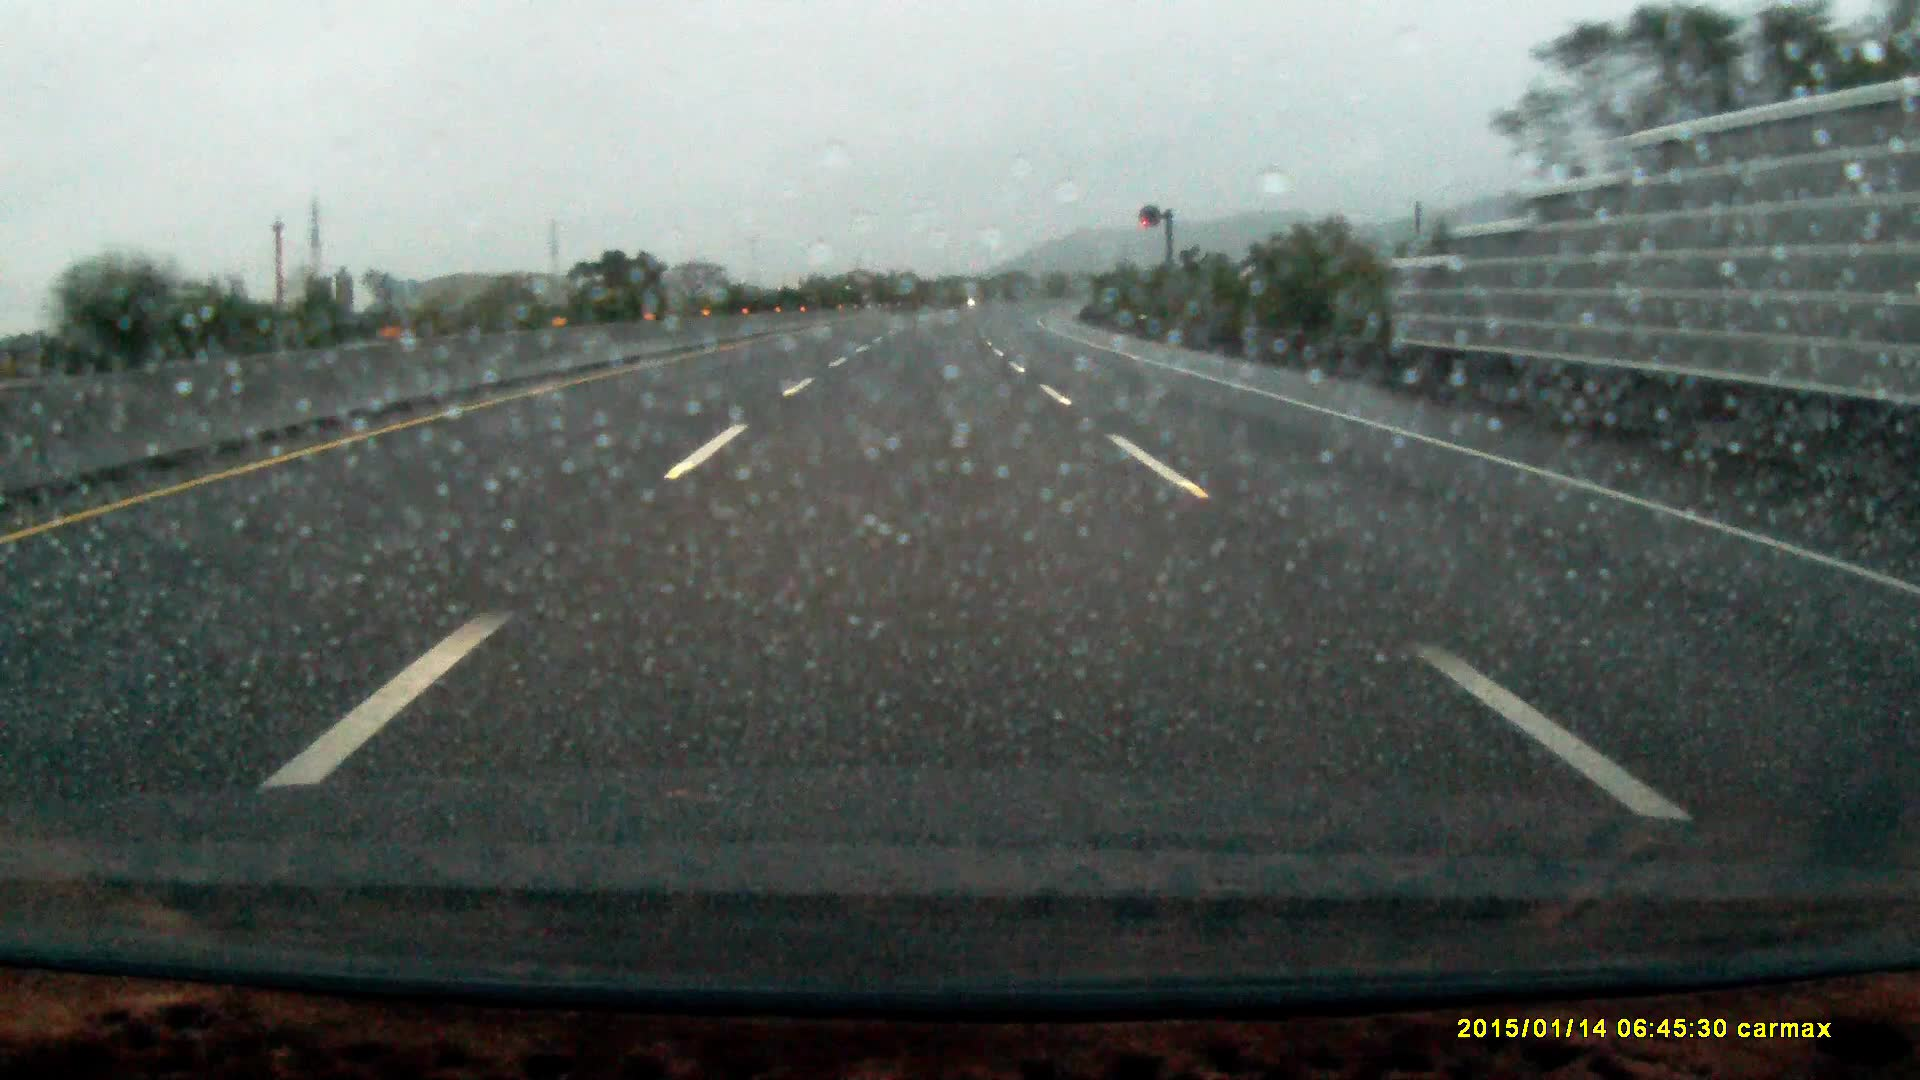vehicle: (836, 269, 880, 309)
